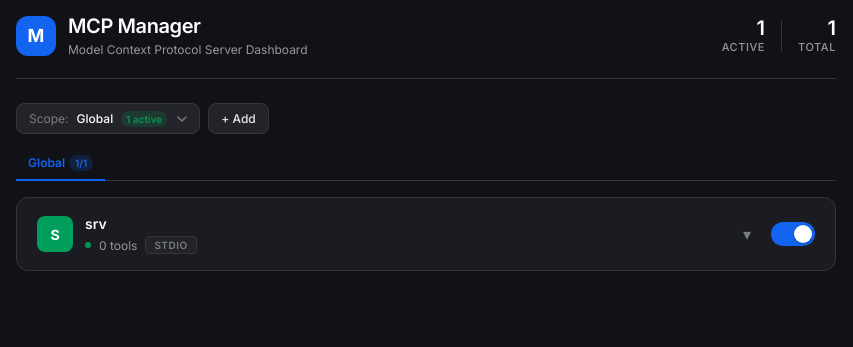
Scenario: Toggle uses server.scope for API calls › shows error when toggle API fails
The width and height of the screenshot is (853, 347).
Click the switch at (793, 234), box [771,222,815,246]
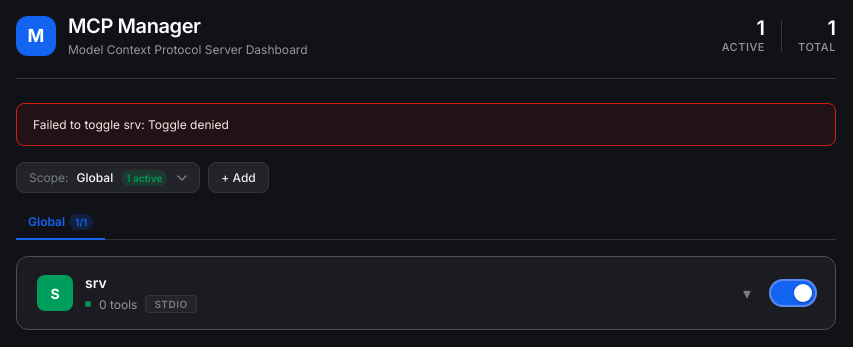
Check: the message shows "Failed to toggle srv", box [33,117,229,132]
